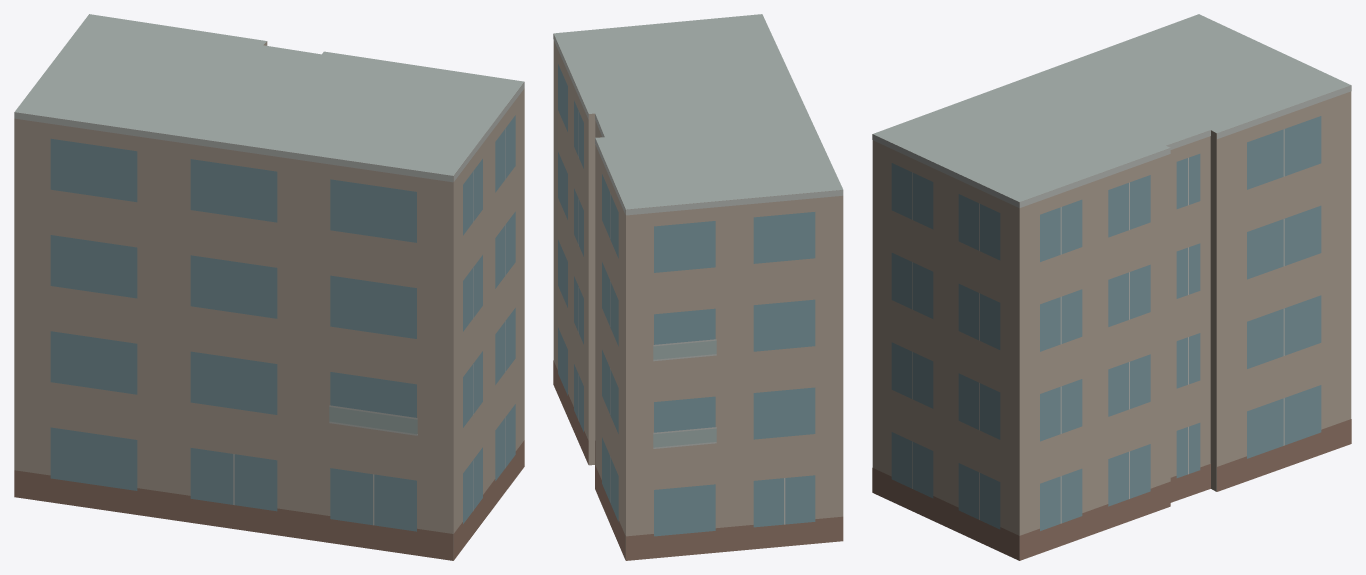
File: survey-upis-32830376.glb
3 renders of one model, left to right at view 1: azimuth 30°, elevation 25°; view 2: azimuth 150°, elevation 25°; view 3: azimuth 270°, elevation 25°, orthographic. The views are drawn at different scales.
Parts seen in each view (by area): view 1: survey-upis-32830376.tmp; view 2: survey-upis-32830376.tmp; view 3: survey-upis-32830376.tmp.
Boxes of the visible parts, bbox=[...] form: survey-upis-32830376.tmp: bbox=[14, 14, 524, 560]; survey-upis-32830376.tmp: bbox=[553, 14, 843, 560]; survey-upis-32830376.tmp: bbox=[872, 14, 1351, 560].
Size of the model in its own units: 16.32 by 14.5 by 17.55.
